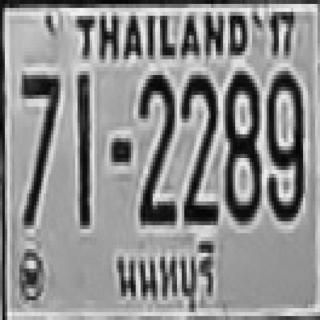N01: (76, 71, 91, 225)
N02: (181, 71, 217, 221), (138, 71, 174, 221)
N07: (19, 71, 58, 225), (19, 71, 58, 178)
N08: (223, 67, 259, 217)
N09: (264, 67, 303, 217)
P37: (109, 238, 229, 320)
